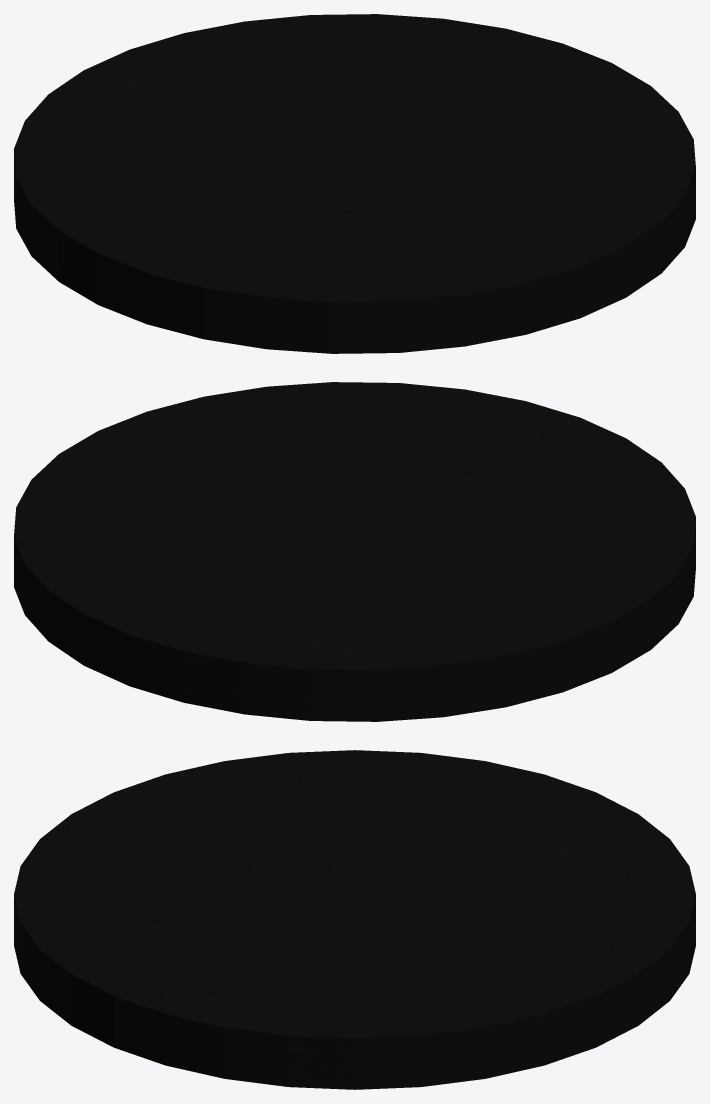
File: pieceThatGoesInHole.glb
The picture shows the model from 3 angles, top to bottom: view 1: azimuth 30°, elevation 25°; view 2: azimuth 150°, elevation 25°; view 3: azimuth 270°, elevation 25°; orthographic projection.
Visible parts, largest first — view 1: Cylinder.015; view 2: Cylinder.015; view 3: Cylinder.015.
Boxes of the visible parts, x1,y1,x2,y2 form: Cylinder.015: (14,14,695,353); Cylinder.015: (14,382,695,721); Cylinder.015: (14,750,695,1089).
Bounding box in the file's own units: 1.8 × 0.15 × 1.8.
1 material, 1 textured.
